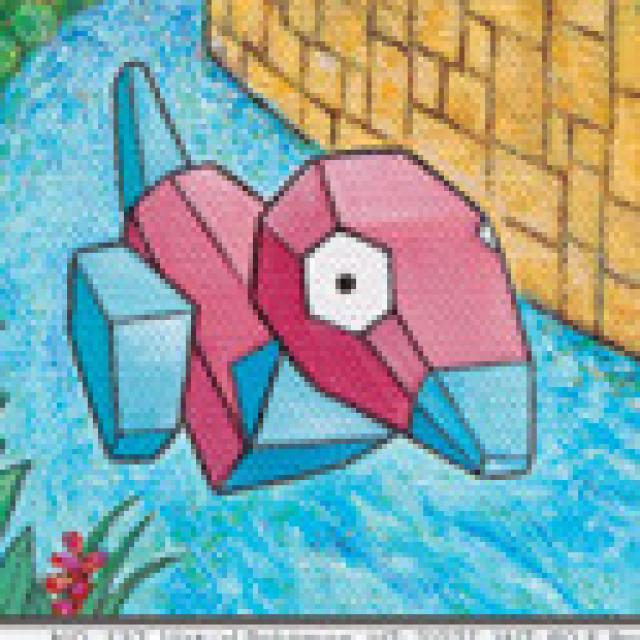Porygon: (77, 139, 532, 485)
